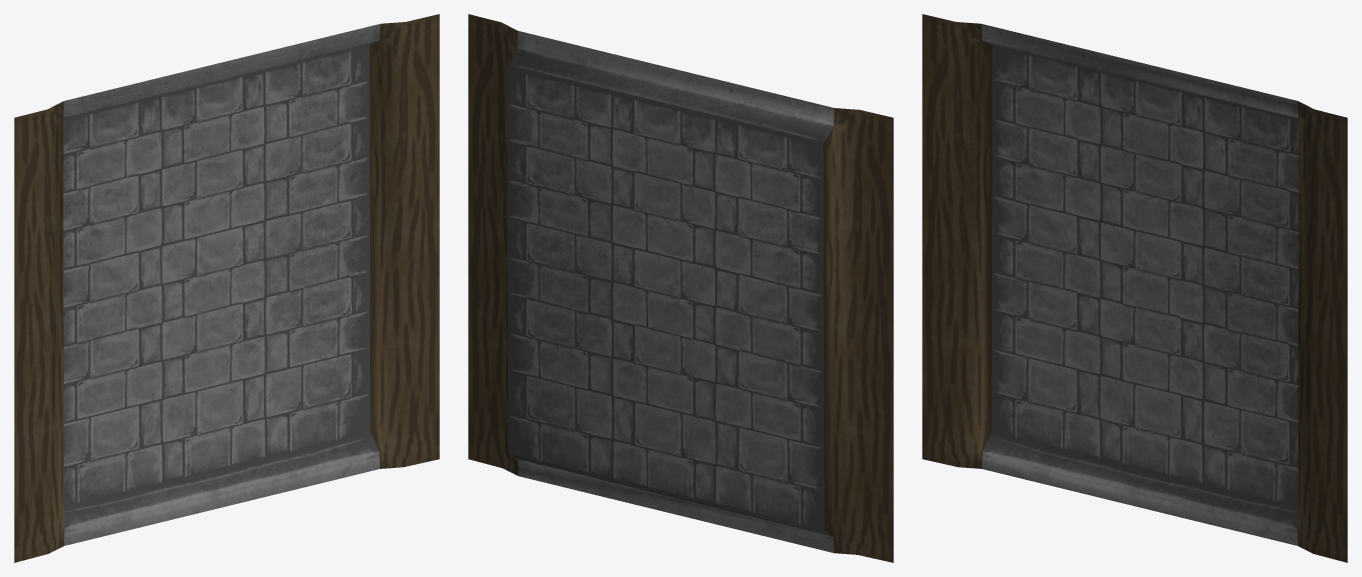
Rendered from Wall_LP.fbx.
3 views of the same model, side by side, from view 1: azimuth 30°, elevation 25°; view 2: azimuth 150°, elevation 25°; view 3: azimuth 330°, elevation 25° (orthographic).
Visible parts, largest first — view 1: Wall_LP; view 2: Wall_LP; view 3: Wall_LP.
Boxes of the visible parts, box(x1,y1,x2,y2) form: Wall_LP: box(14, 14, 439, 562); Wall_LP: box(468, 14, 893, 562); Wall_LP: box(922, 14, 1347, 562).
Size of the model in its own units: 200 by 200 by 12.68.
1 material, 1 textured.
